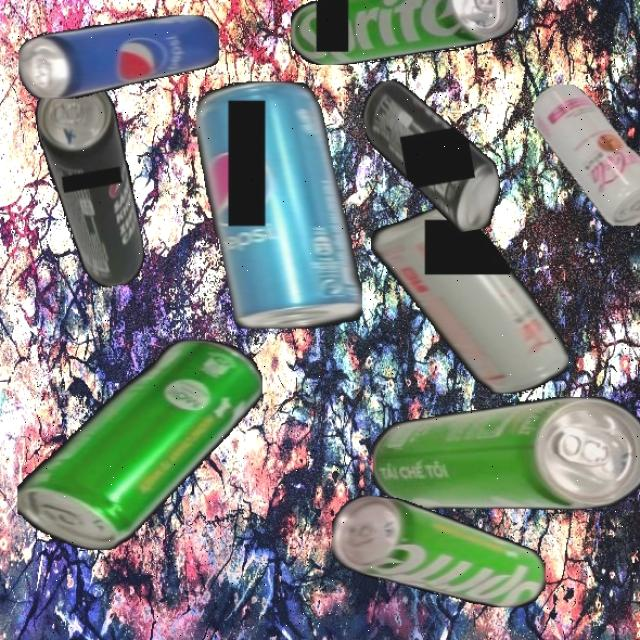debris: (16, 338, 262, 551), (196, 80, 362, 329), (370, 206, 568, 394), (372, 397, 640, 510), (358, 65, 507, 245), (30, 70, 148, 294), (332, 494, 546, 608), (19, 14, 219, 99), (533, 83, 640, 225), (290, 0, 518, 65)
